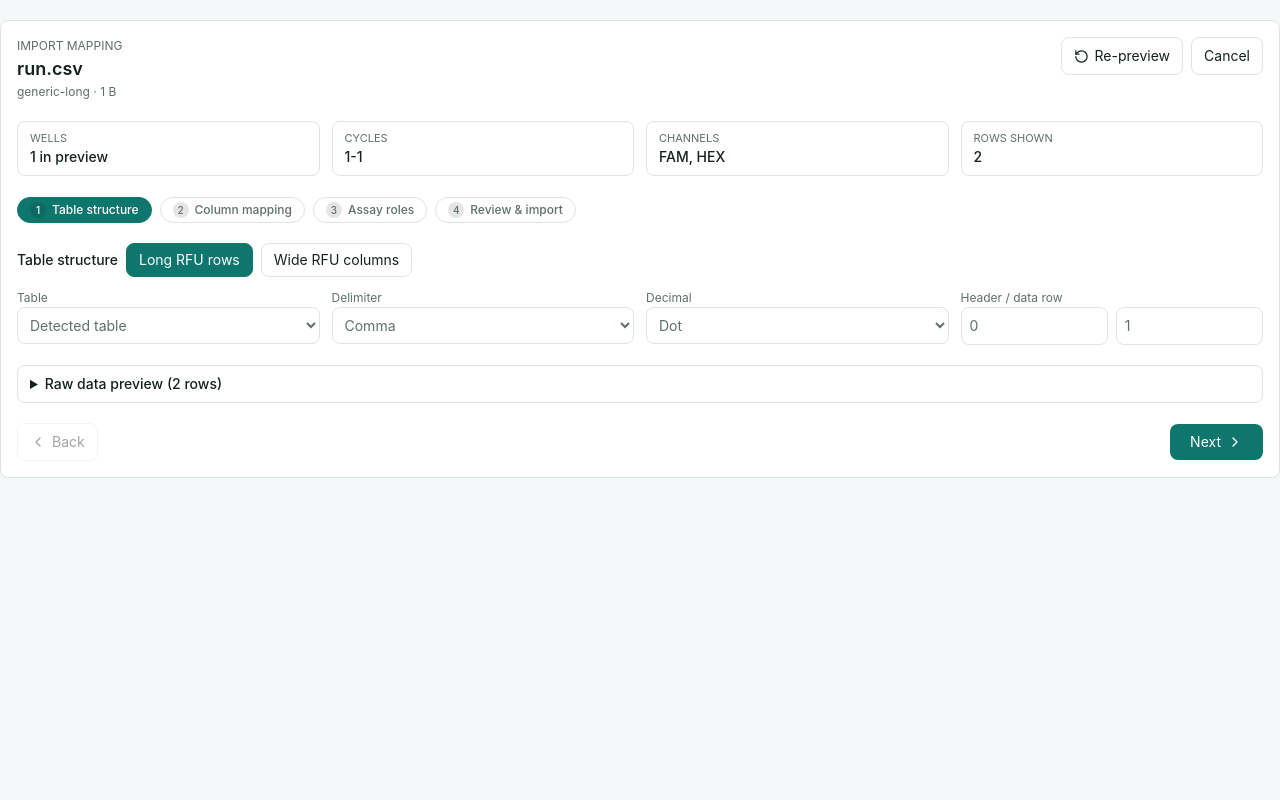
Scenario: ImportMappingWizard (guided flow) › does not expose an unsupported response private message
The image size is (1280, 800).
Click the button with test id "wizard-next". click: coordinates (1217, 442)
box: [1170,424,1263,460]
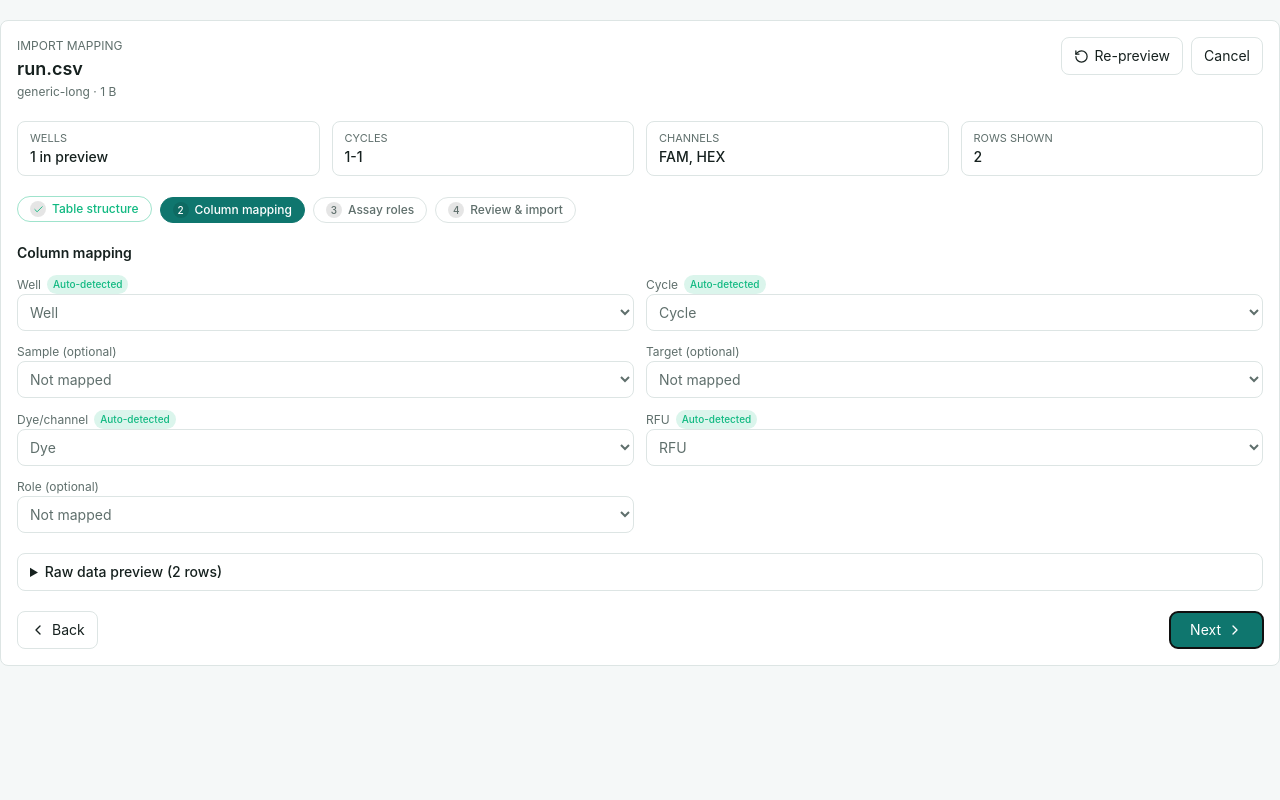
Click the button with test id "wizard-next". click: coordinates (1217, 630)
box: [1170,612,1263,648]
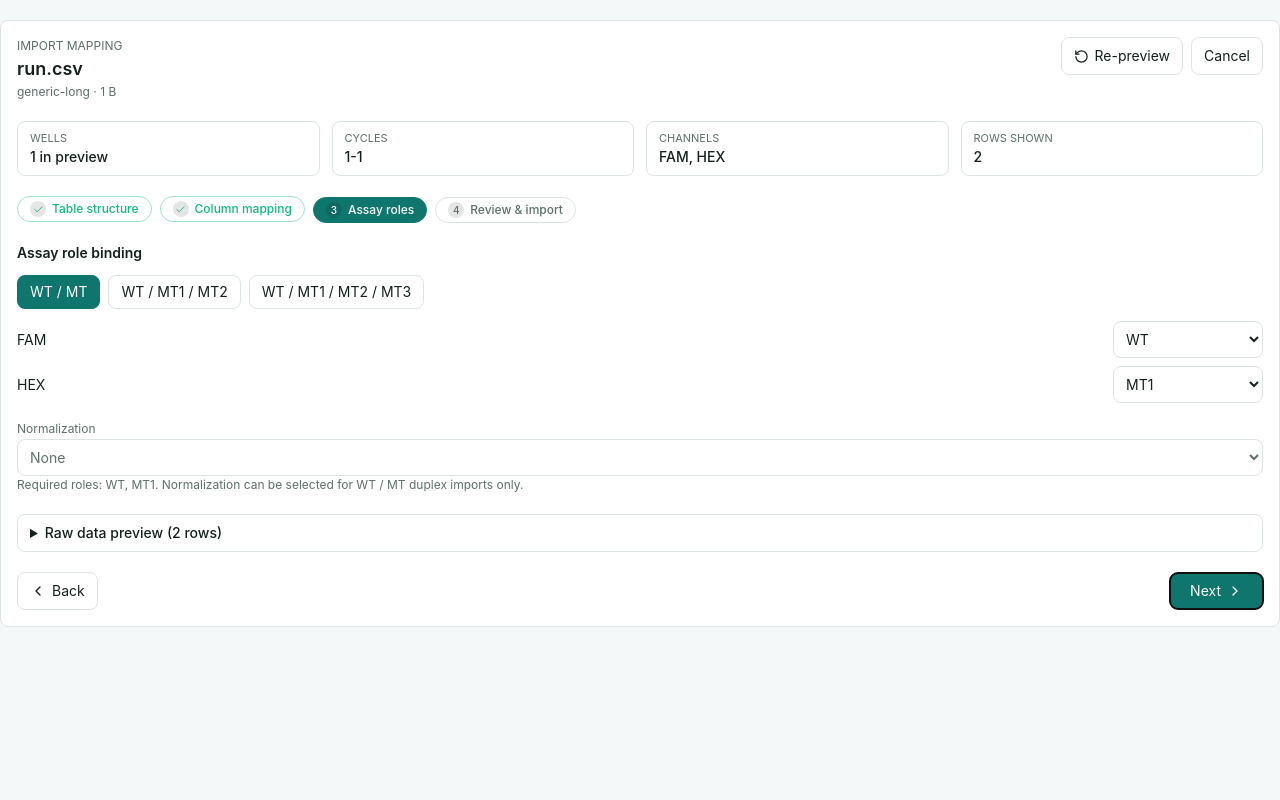
Click the button with test id "wizard-next". click: coordinates (1217, 591)
box: [1170,573,1263,609]
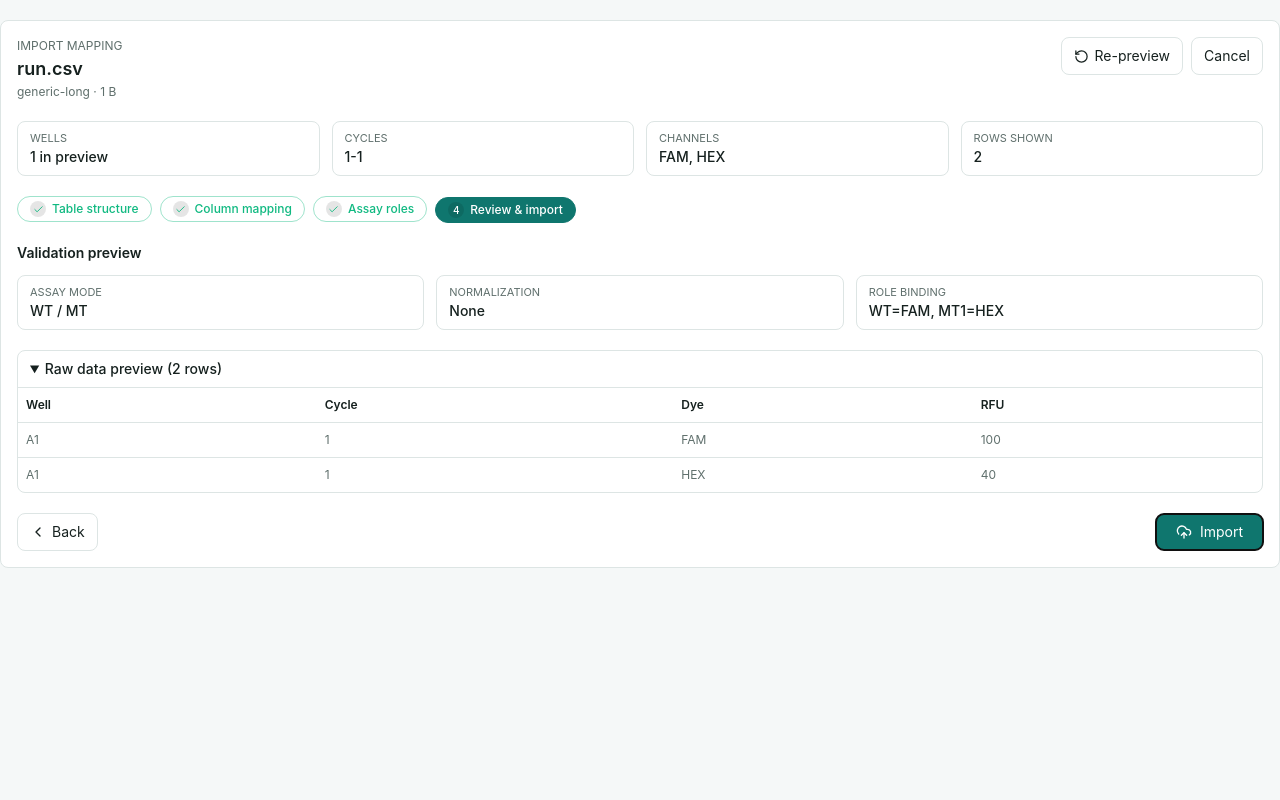
Click the button with test id "wizard-import". click: coordinates (1209, 532)
box: [1156,514,1263,550]
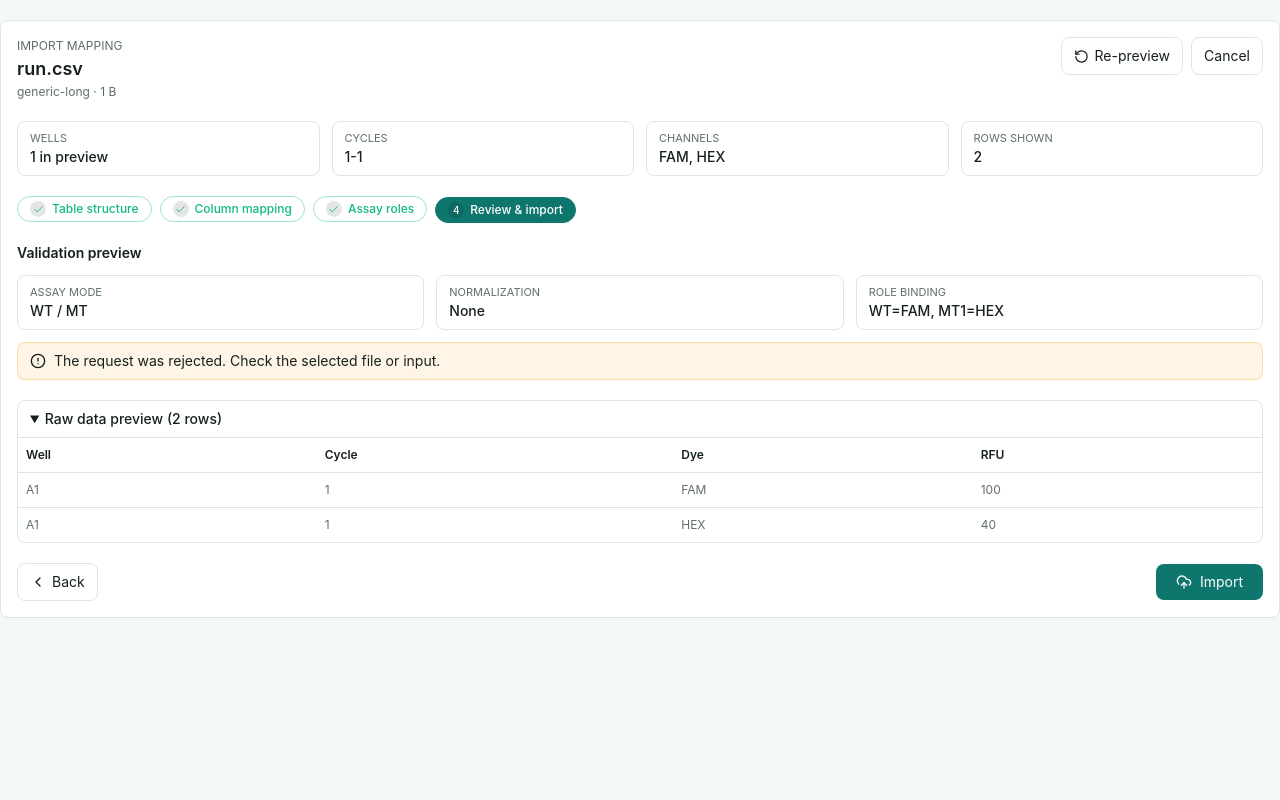
Check: the text "The request was rejected. Check the selected file or input." is shown, box [54,351,440,371]
